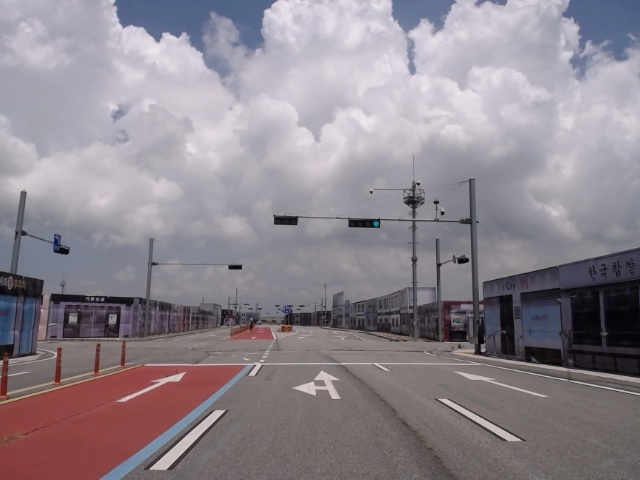straight_green_4: (350, 218, 382, 228)
